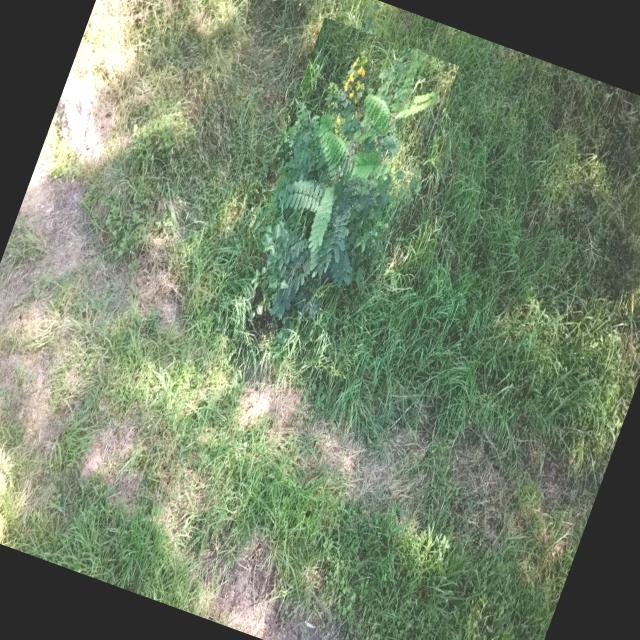Mysore-Thorn-Weed: (211, 18, 459, 380)
